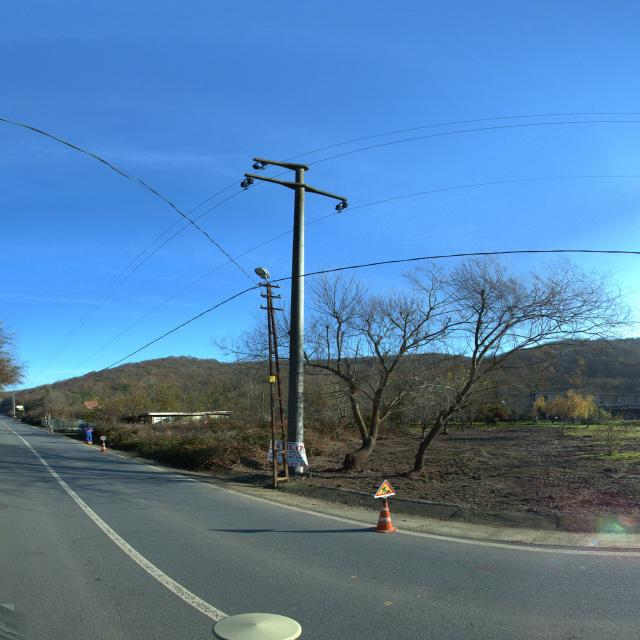Utility Pole Information Plate: (269, 376, 275, 382)
